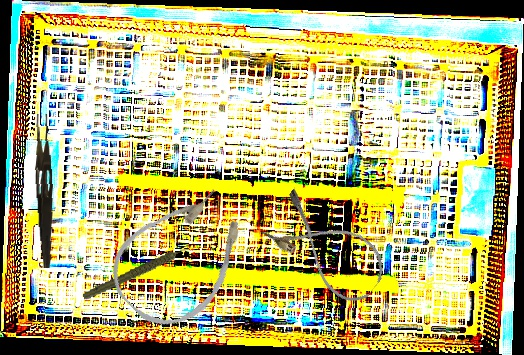Cannula: (95, 169, 269, 345), (258, 185, 395, 311)
Dressing Forceps: (30, 113, 59, 269)
Handpiece: (77, 246, 199, 301)
